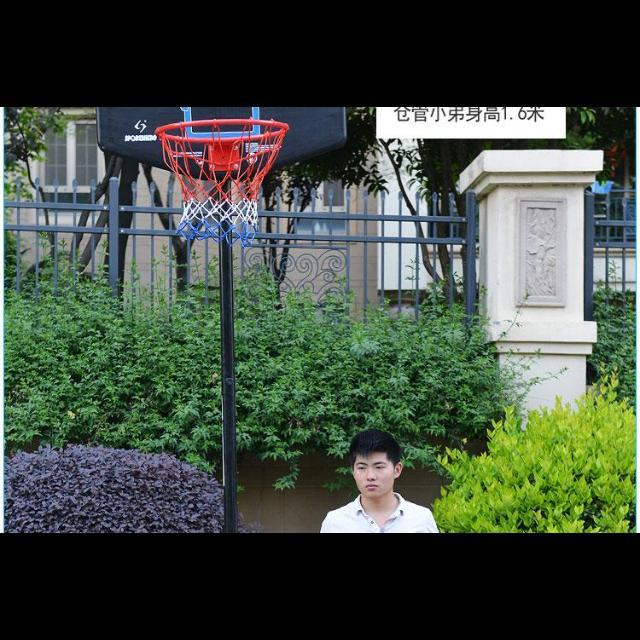rim: (156, 118, 288, 245)
